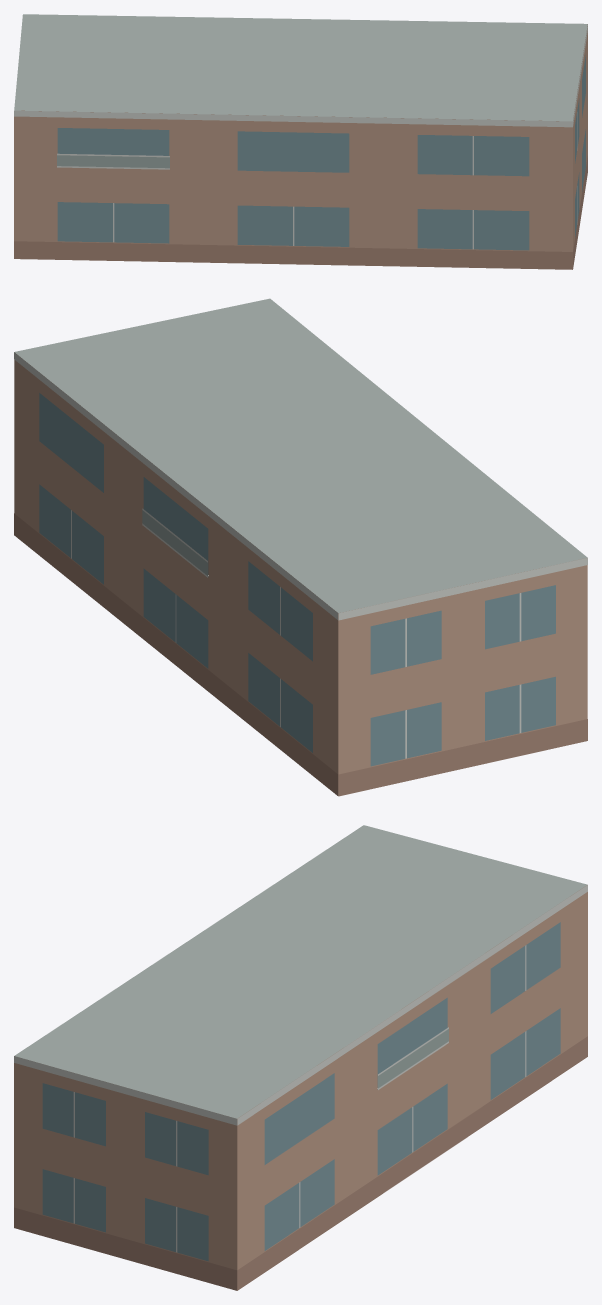
Rendered from survey-upis-33020305.glb.
3 views of the same model, one above another, from view 1: azimuth 30°, elevation 25°; view 2: azimuth 150°, elevation 25°; view 3: azimuth 270°, elevation 25° (orthographic). The views are drawn at different scales.
Visible parts, largest first — view 1: survey-upis-33020305.tmp; view 2: survey-upis-33020305.tmp; view 3: survey-upis-33020305.tmp.
Boxes of the visible parts, left/top/right/bottom form: survey-upis-33020305.tmp: left=14, top=14, right=587, bottom=269; survey-upis-33020305.tmp: left=14, top=298, right=587, bottom=796; survey-upis-33020305.tmp: left=14, top=825, right=587, bottom=1290.
Size of the model in its own units: 22.35 by 6.1 by 18.44.
